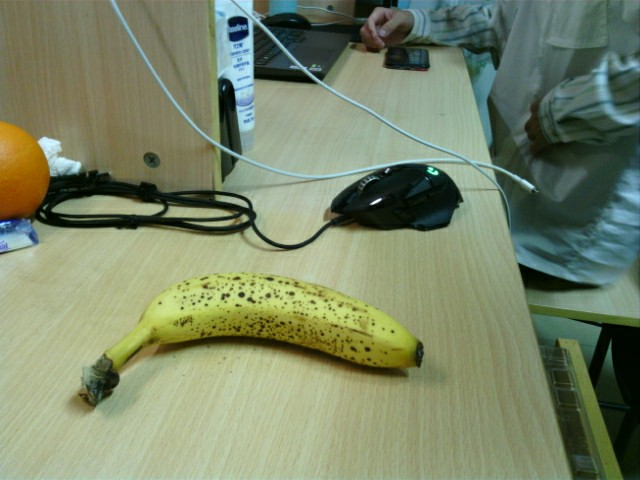normal_banana: (80, 271, 423, 405)
normal_orange: (1, 125, 47, 222)
